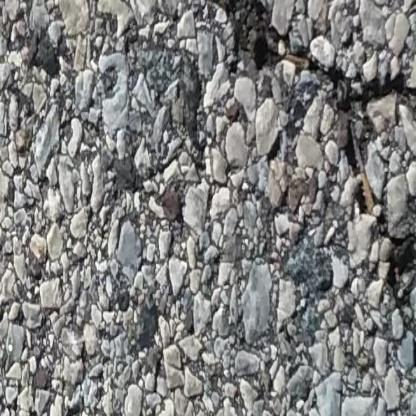Cracks: (207, 0, 416, 403)
